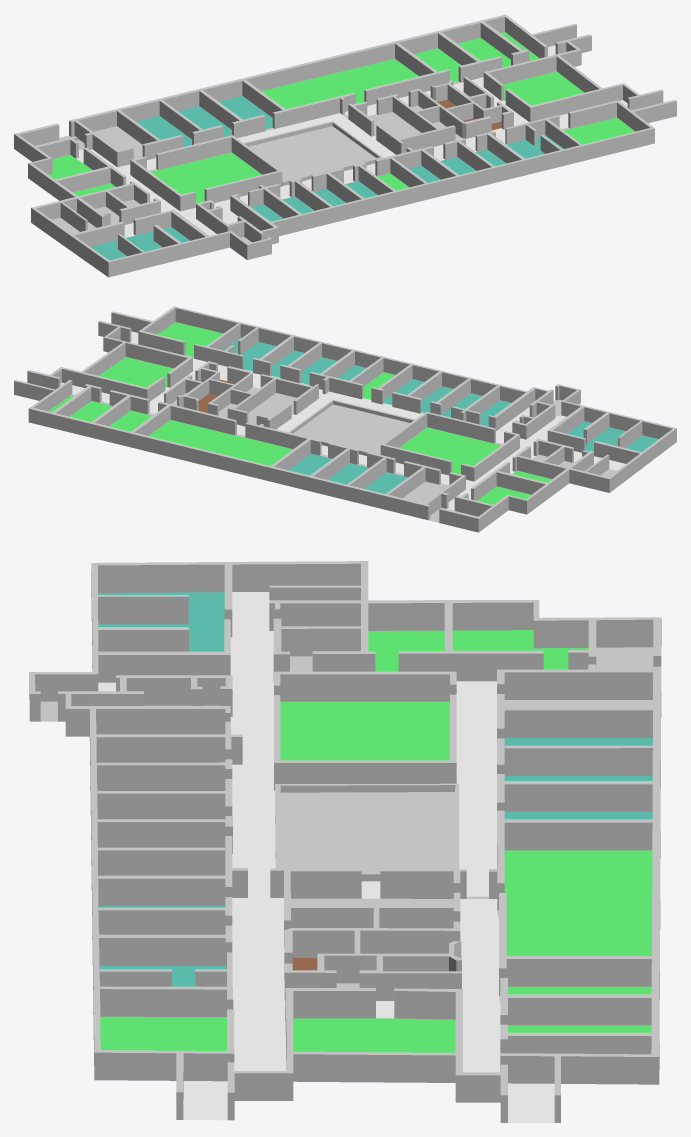
Rendered from Diplom_4flor_centered_separeted.fbx.
The picture shows the model from 3 angles, top to bottom: view 1: azimuth 30°, elevation 25°; view 2: azimuth 150°, elevation 25°; view 3: azimuth 270°, elevation 25°; orthographic projection. The views are drawn at different scales.
Visible parts, largest first — view 1: 4 floor_wall, 4 floor_ground, 4 floor_ups; view 2: 4 floor_wall, 4 floor_ground, 4 floor_ups; view 3: 4 floor_wall, 4 floor_ground, 4 floor_ups.
Boxes of the visible parts, <box> form: 4 floor_wall: <box>14,14,676,277</box>; 4 floor_ground: <box>37,32,634,260</box>; 4 floor_ups: <box>249,126,375,180</box>; 4 floor_wall: <box>14,306,676,532</box>; 4 floor_ground: <box>48,322,658,520</box>; 4 floor_ups: <box>293,404,409,454</box>; 4 floor_wall: <box>29,561,661,1122</box>; 4 floor_ground: <box>40,592,653,1122</box>; 4 floor_ups: <box>280,792,454,872</box>.
Size of the model in its own units: 832 by 20 by 416.
